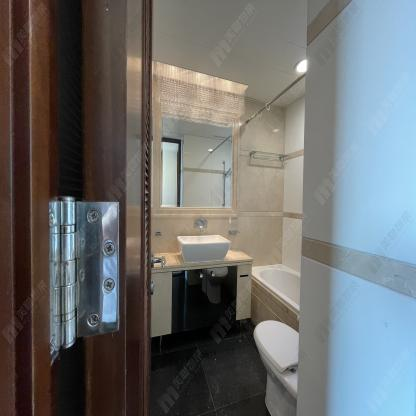Bathtub: (250, 263, 301, 332)
Toilet: (253, 320, 299, 416)
Toilet Sink: (176, 234, 230, 264)
